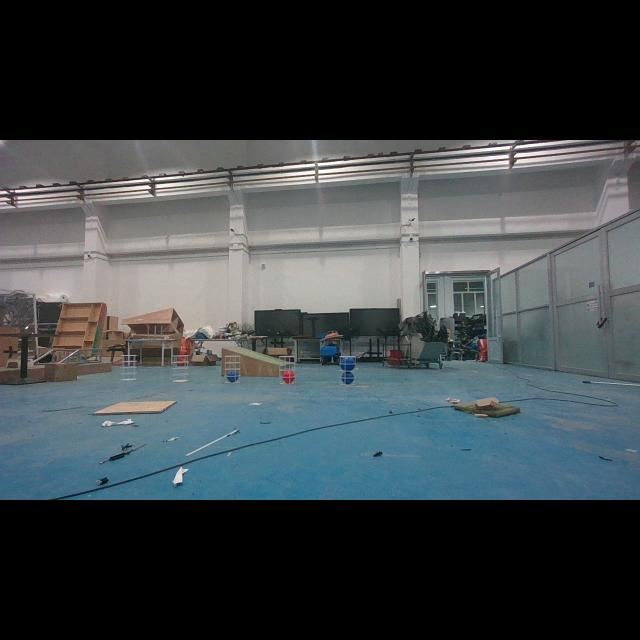B: (339, 357, 356, 371), (339, 372, 356, 384), (227, 370, 239, 382)
R: (281, 372, 295, 384)
S: (276, 353, 300, 387), (336, 355, 360, 387), (169, 353, 193, 383), (222, 354, 244, 386), (116, 353, 140, 382)
